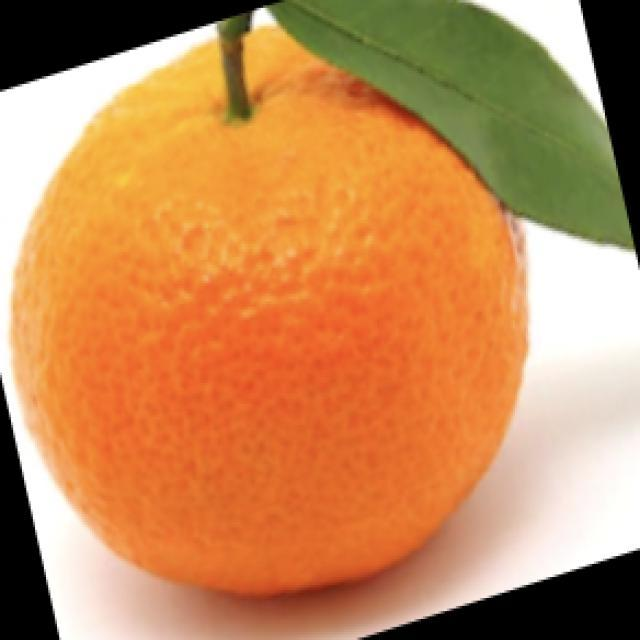matang: (12, 27, 527, 593)
